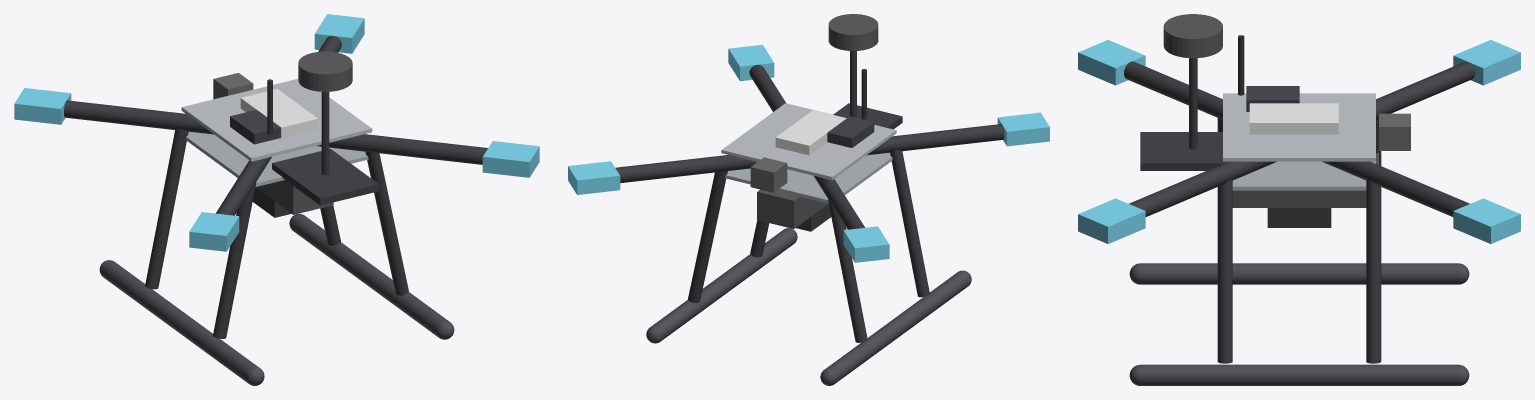
File: x500-frame.glb
3 renders of one model, left to right at view 1: azimuth 30°, elevation 25°; view 2: azimuth 150°, elevation 25°; view 3: azimuth 270°, elevation 25°, orthographic. The views are drawn at different scales.
Visible parts, largest first — view 1: frame_top_plate, landing_gear_left_skid, landing_gear_right_skid, attachment_gps_tray, frame_arm_rear_right, frame_arm_front_left, frame_bottom_plate, landing_gear_front_left_support, landing_gear_rear_right_support, attachment_gps_receiver, landing_gear_rear_left_support, attachment_flight_controller_case (+11 smaller); view 2: frame_top_plate, landing_gear_left_skid, landing_gear_right_skid, frame_bottom_plate, frame_arm_front_right, frame_arm_rear_left, landing_gear_rear_left_support, battery_case, attachment_flight_controller_case, landing_gear_front_right_support, attachment_gps_receiver, landing_gear_front_left_support (+12 smaller); view 3: landing_gear_right_skid, frame_top_plate, landing_gear_left_skid, frame_bottom_plate, attachment_gps_tray, landing_gear_front_right_support, landing_gear_rear_right_support, attachment_flight_controller_case, battery_case, frame_arm_front_right, frame_arm_rear_right, attachment_gps_receiver (+11 smaller).
Boxes of the visible parts, x1,y1,x2,y2 form: frame_top_plate: (181,79,372,161); landing_gear_left_skid: (99,260,264,385); landing_gear_right_skid: (289,213,454,339); attachment_gps_tray: (272,149,378,205); frame_arm_rear_right: (317,134,487,164); frame_arm_front_left: (64,100,213,134); frame_bottom_plate: (185,131,368,186); landing_gear_front_left_support: (145,128,188,289); landing_gear_rear_right_support: (365,151,408,295); attachment_gps_receiver: (298,51,352,91); landing_gear_rear_left_support: (213,182,256,338); attachment_flight_controller_case: (240,89,318,138); frame_top_plate: (721,103,896,180); landing_gear_left_skid: (820,270,971,385); landing_gear_right_skid: (646,228,797,343); frame_bottom_plate: (725,152,892,203); frame_arm_front_right: (615,155,756,183); frame_arm_rear_left: (867,124,1004,155); landing_gear_rear_left_support: (890,150,929,297); battery_case: (757,189,828,228); attachment_flight_controller_case: (775,110,846,155); landing_gear_front_right_support: (688,171,727,302); attachment_gps_receiver: (828,14,878,50); landing_gear_front_left_support: (828,199,867,342); landing_gear_right_skid: (1129,364,1469,385); frame_top_plate: (1223,93,1375,161); landing_gear_left_skid: (1129,263,1469,284); frame_bottom_plate: (1232,161,1375,190); attachment_gps_tray: (1140,132,1227,170); landing_gear_front_right_support: (1366,179,1381,363); landing_gear_rear_right_support: (1217,179,1232,363); attachment_flight_controller_case: (1249,103,1338,134); battery_case: (1232,153,1378,207); frame_arm_front_right: (1322,161,1469,216); frame_arm_rear_right: (1129,161,1276,216); attachment_gps_receiver: (1163,14,1222,58).
Bounding box in the file's own units: 0.4172 × 0.32 × 0.4172.
